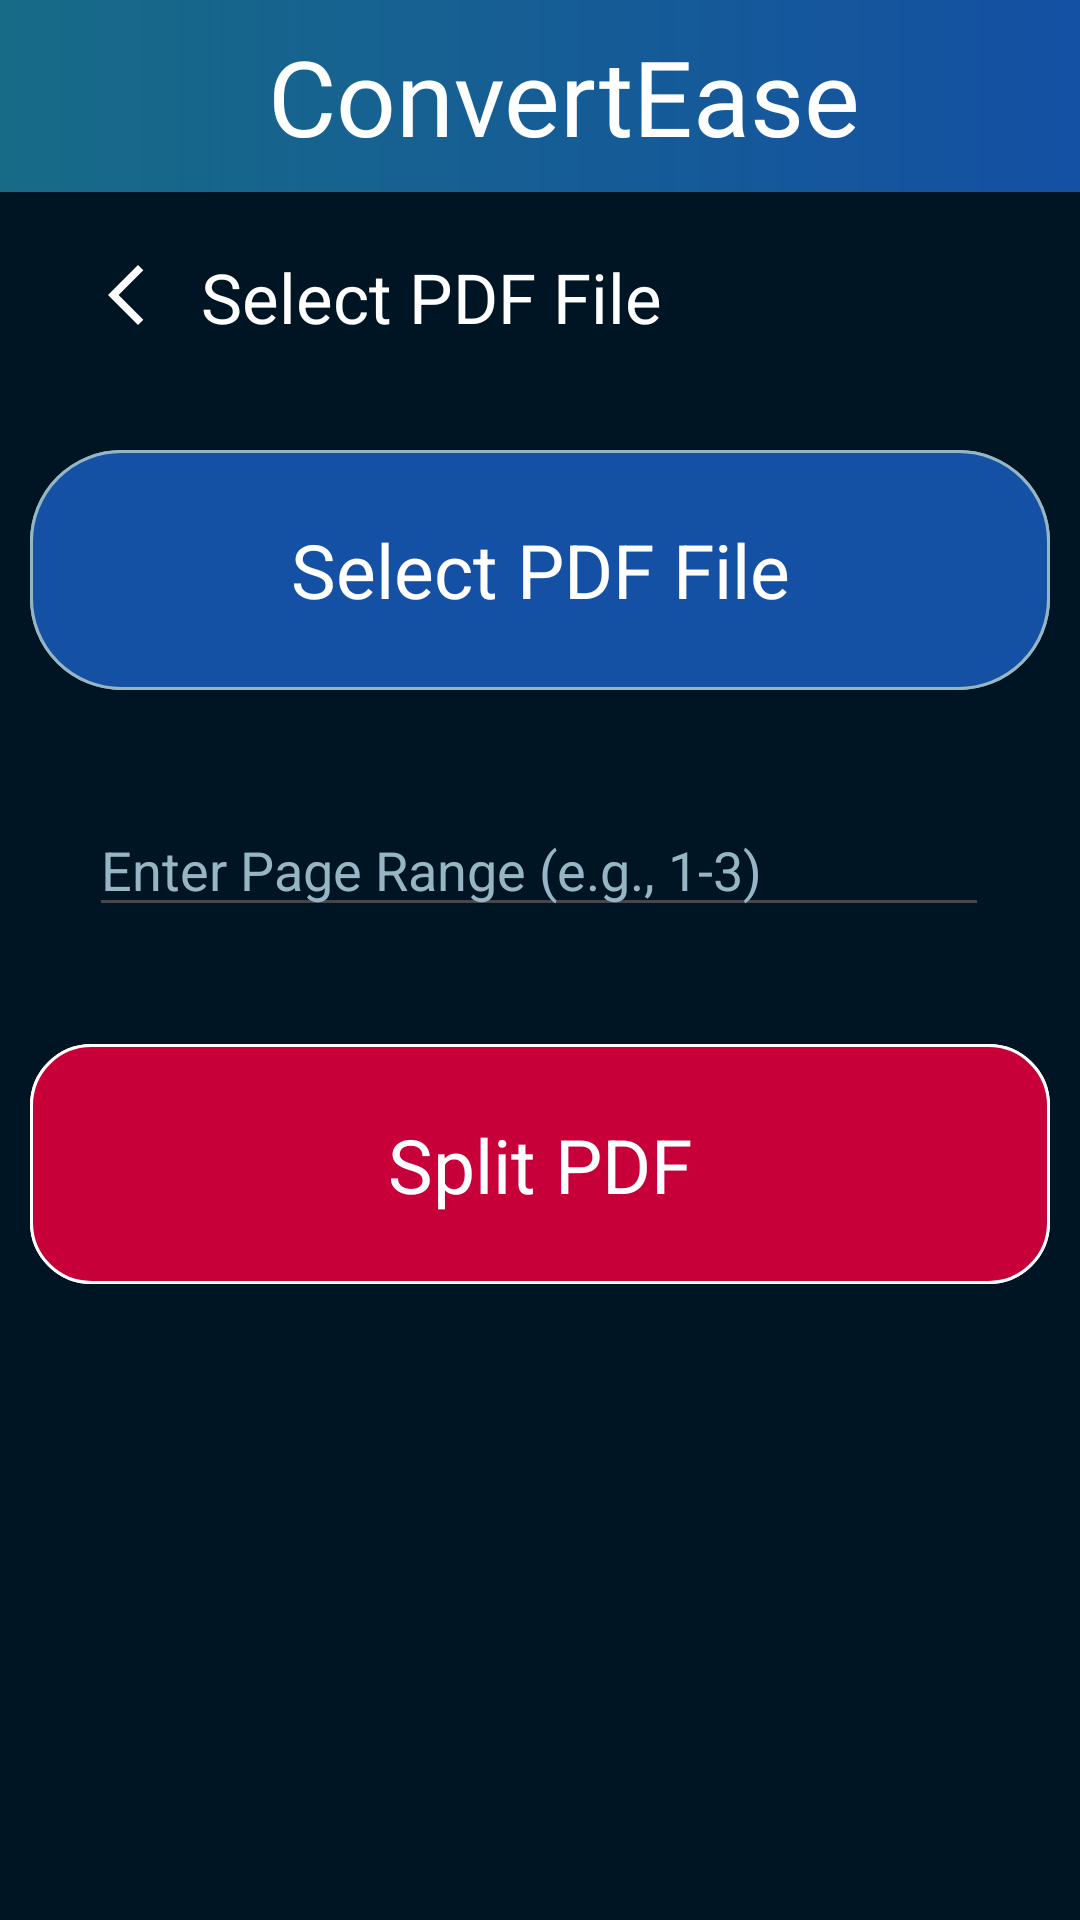

Icon click points for this 1080 x 1920 phone screenshot, format [x,y]:
arrow back: [125,295]
